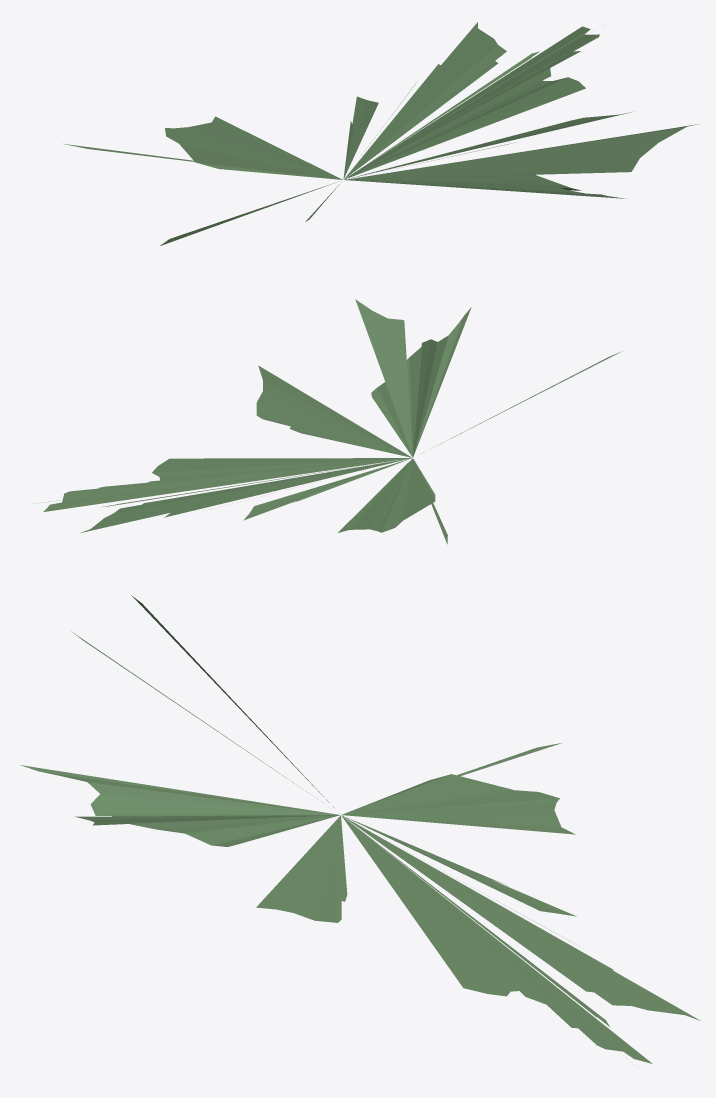
The model's file is c_1671_17832_forest.glb.
The picture shows the model from 3 angles, top to bottom: view 1: azimuth 30°, elevation 25°; view 2: azimuth 150°, elevation 25°; view 3: azimuth 270°, elevation 25°; orthographic projection. The views are drawn at different scales.
Visible parts, largest first — view 1: geometry_0; view 2: geometry_0; view 3: geometry_0.
Part boxes in pixels (x1,y1,x2,y2): geometry_0: [62, 22, 699, 245]; geometry_0: [29, 299, 622, 544]; geometry_0: [20, 595, 700, 1068].
Size of the model in its own units: 837 by 164 by 639.
